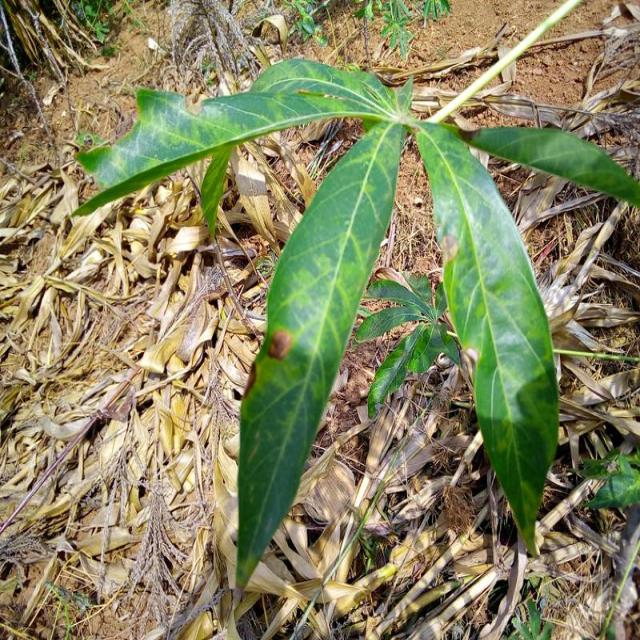cassava leaf: (69, 50, 636, 590), (233, 115, 407, 591), (413, 117, 560, 557)
